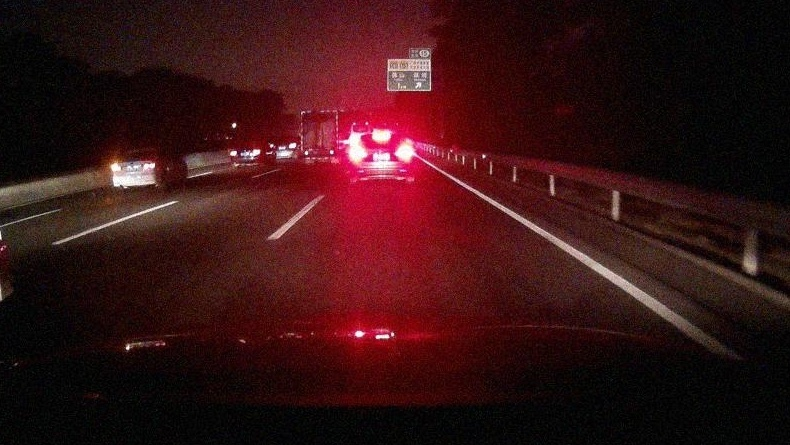L_light: (350, 149, 363, 156), (112, 164, 121, 171)
R_light: (397, 149, 413, 158), (144, 162, 155, 169)
T_light: (374, 134, 389, 139), (138, 151, 146, 154)
night-brake: (349, 131, 414, 184)
night-left: (112, 147, 156, 194)
